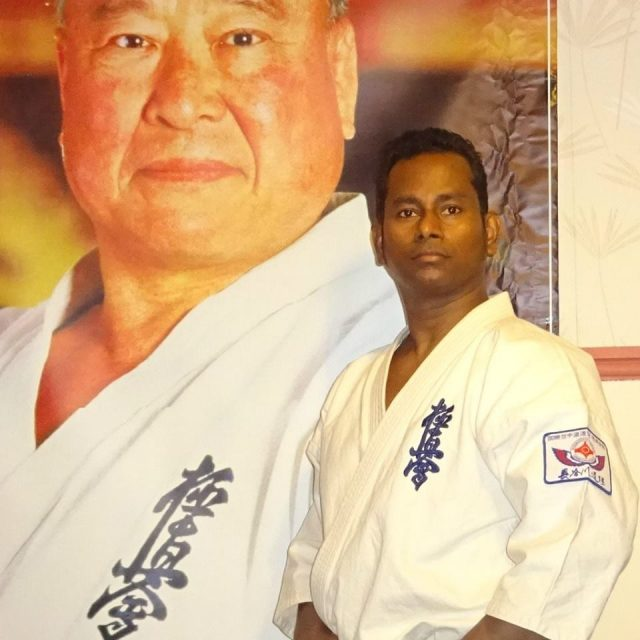human: (48, 4, 356, 250), (370, 146, 499, 296)
